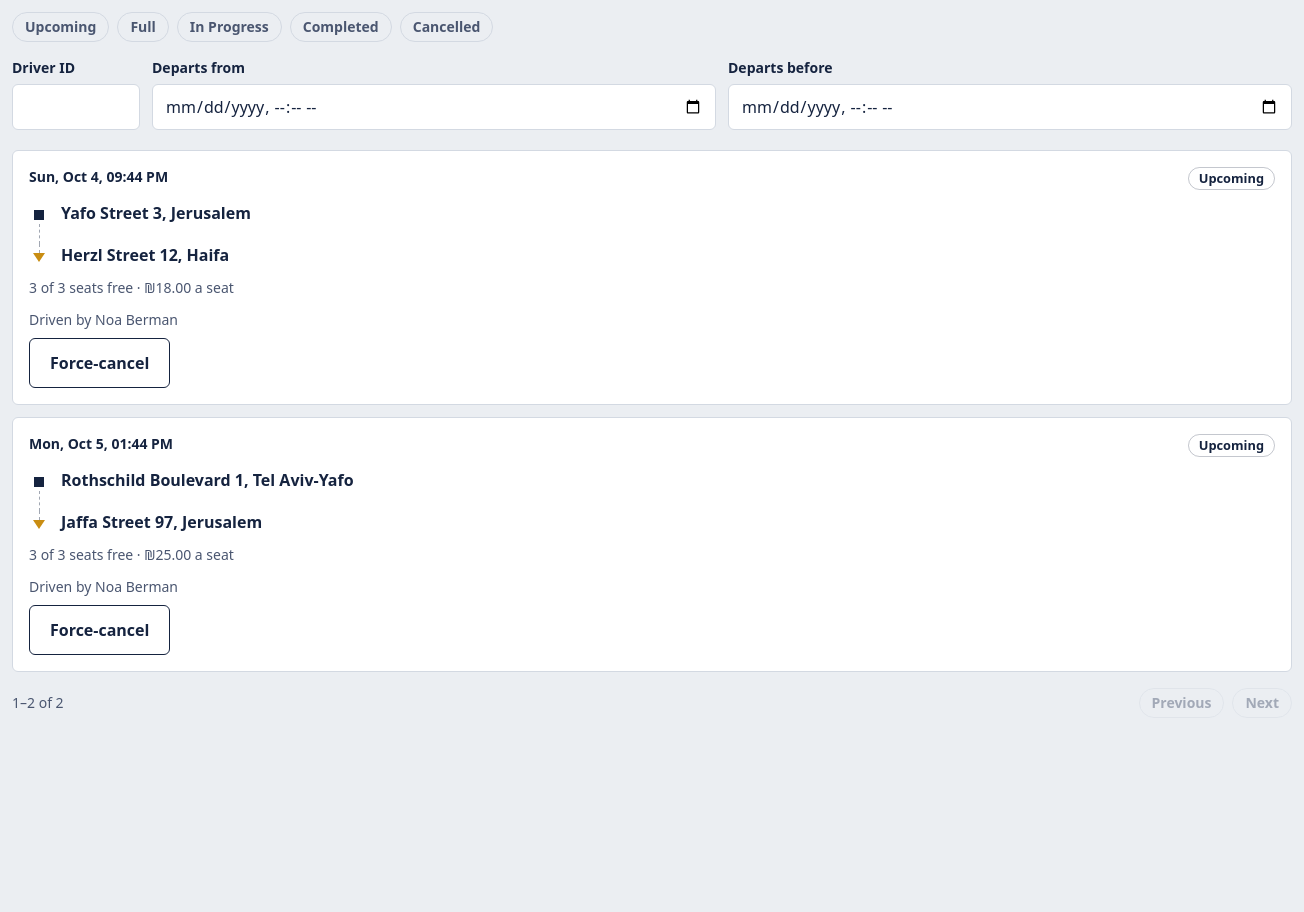
Test: Admin ride monitoring › will not confirm a force-cancel with no reason
What coordinates should you click on to do the following:
click the button "Force-cancel" below "₪18.00"
I would click on:
 (100, 363)
Its box is [29,338,170,388].
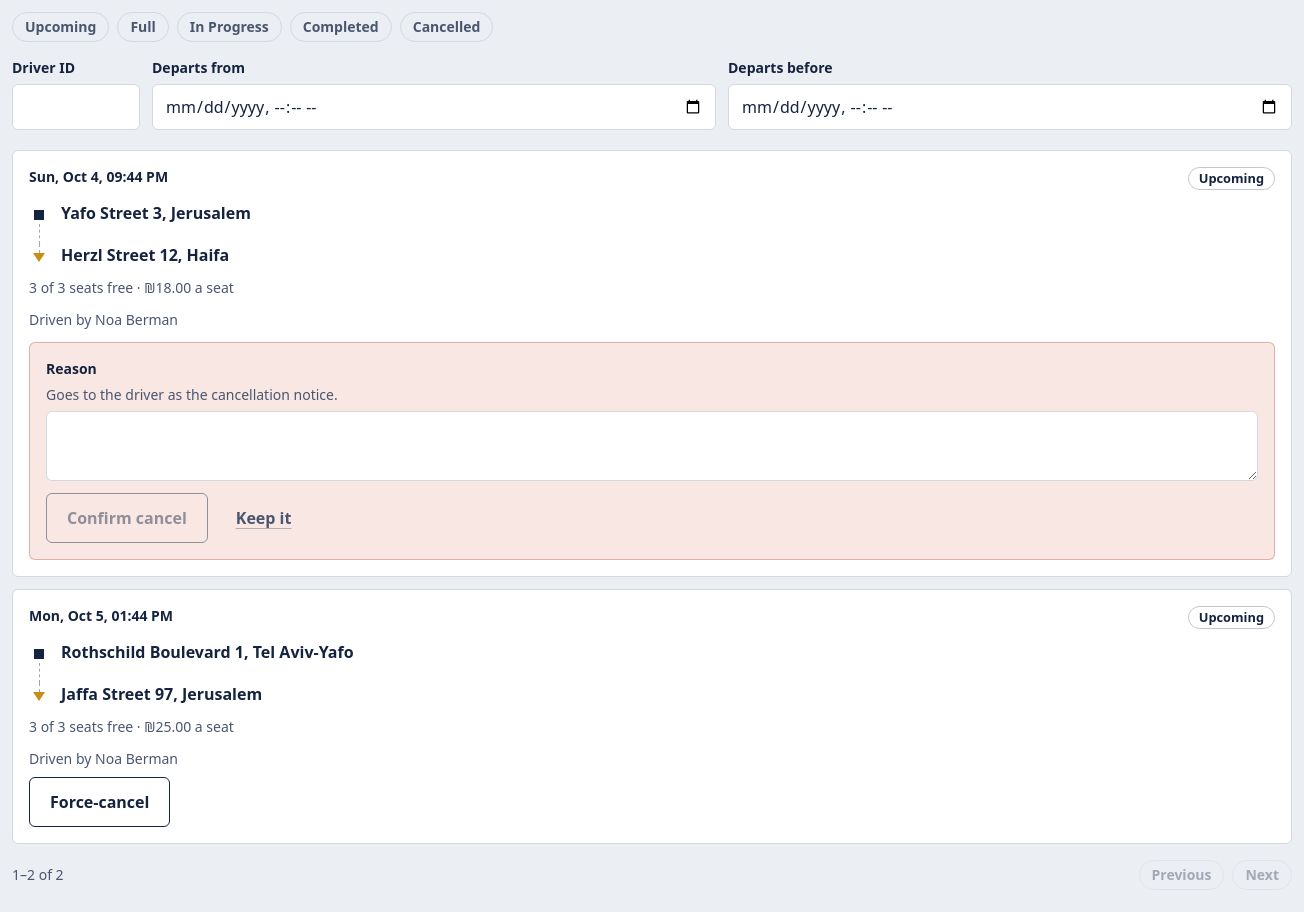
Check: the button "Confirm cancel" is disabled, box [46,493,208,543]
